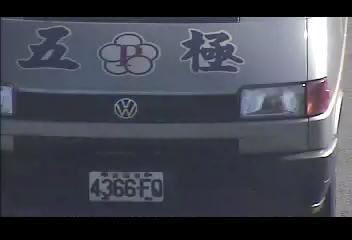plate: (87, 170, 166, 202)
